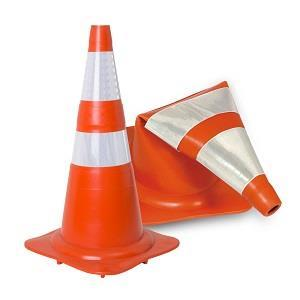traffic_cone: (24, 23, 180, 278), (126, 80, 282, 225)
